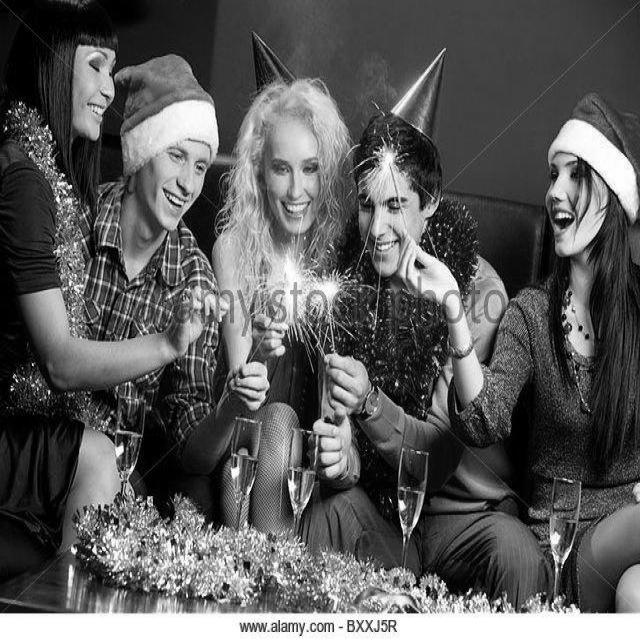person: (212, 62, 491, 598), (1, 30, 228, 598), (429, 87, 640, 605), (344, 65, 488, 374), (128, 53, 208, 261)
